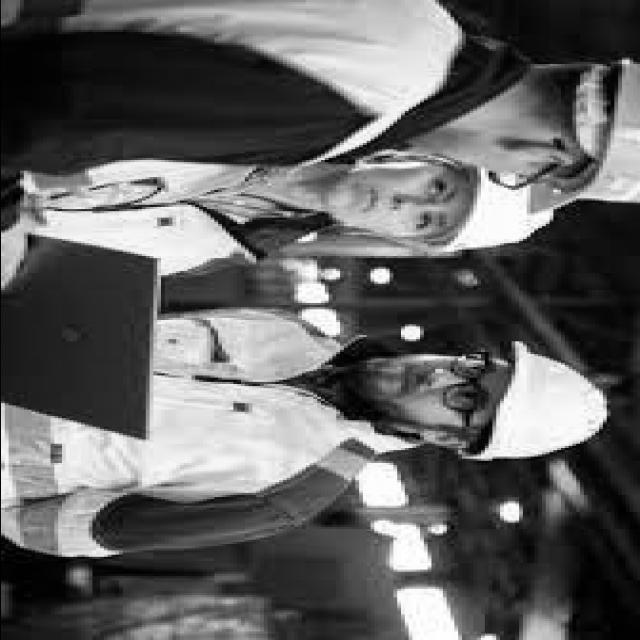safety_helmet: (469, 341, 606, 461), (434, 169, 552, 252)
